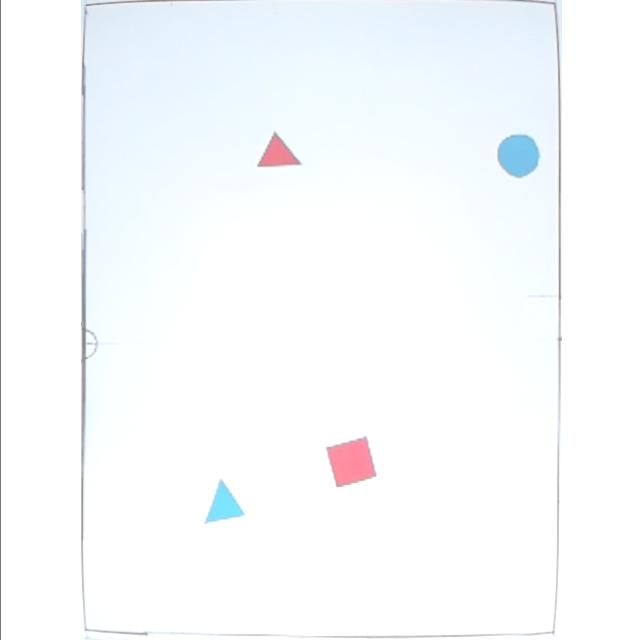blueCircle: (495, 134, 539, 180)
blueTriangle: (200, 478, 244, 526)
redSquare: (322, 437, 376, 489)
redTriangle: (254, 132, 298, 168)
